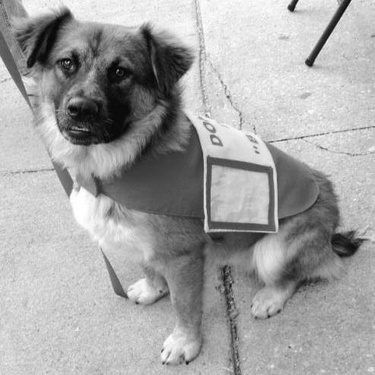dog: (6, 3, 350, 368)
